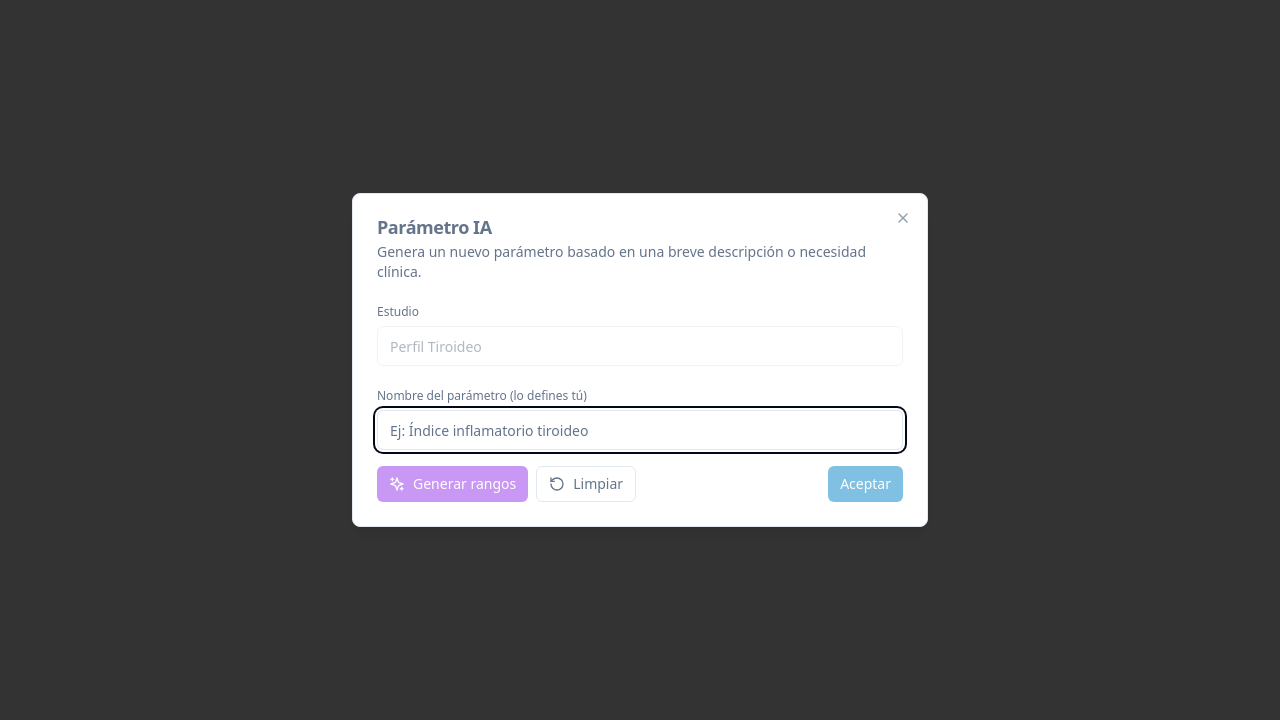
Scenario: AIAssistParameterDialog › deshabilita Aceptar con nombre vacío y lo habilita al escribir
The image size is (1280, 720).
Expected: the button "Aceptar" is disabled, 828,466 -> 903,502
Type "Indice X" into the field with placeholder "Ej: Índice inflamatorio tiroideo" at (640, 430), box 377,410 -> 903,450
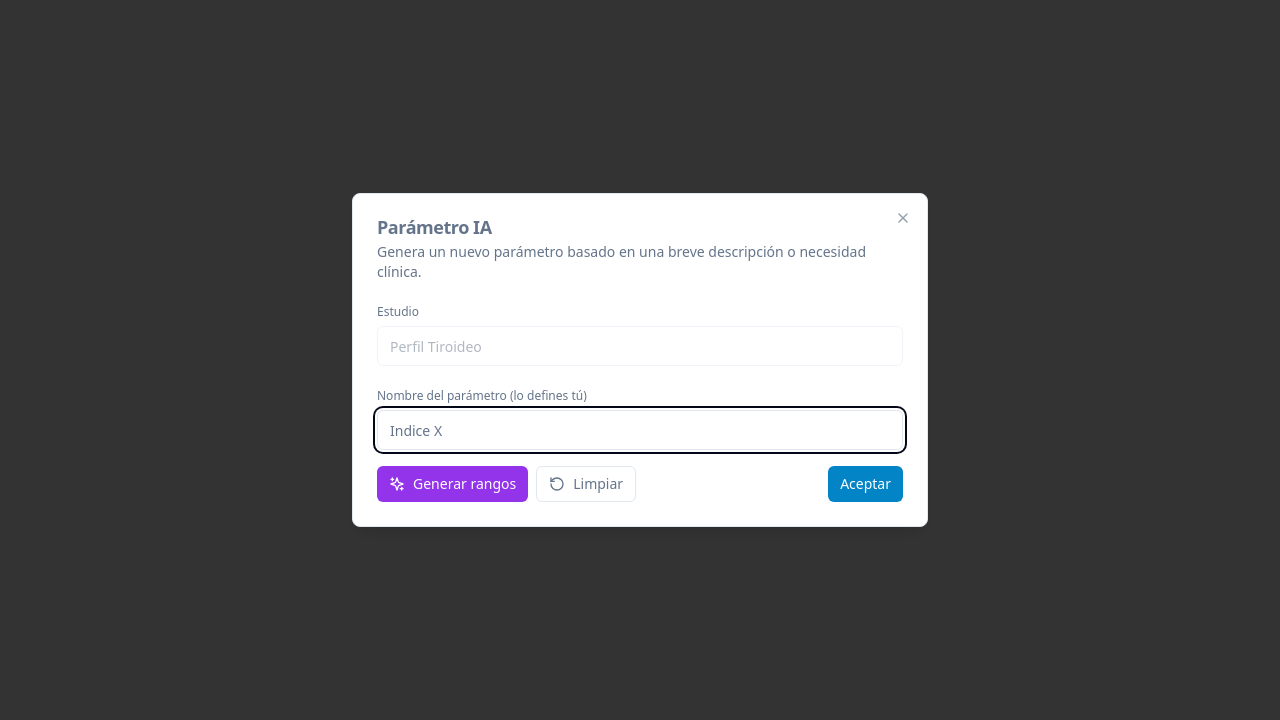
Result: the button "Aceptar" is enabled at 828,466 -> 903,502
